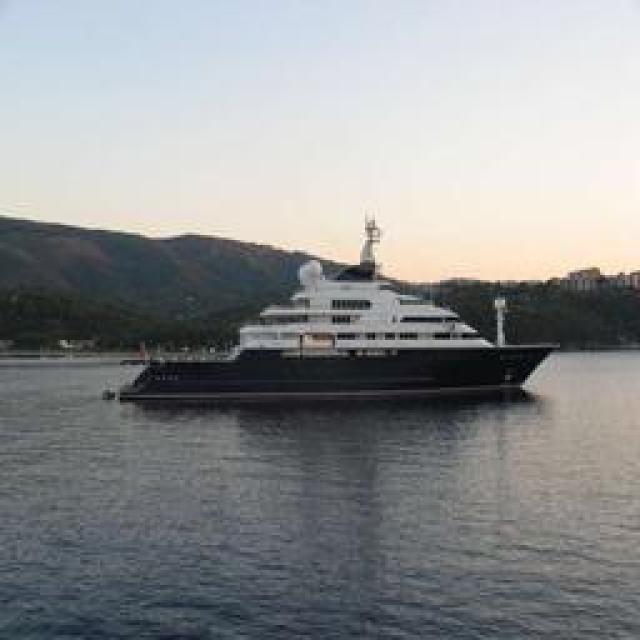CIV_Ship: (109, 208, 552, 412)
